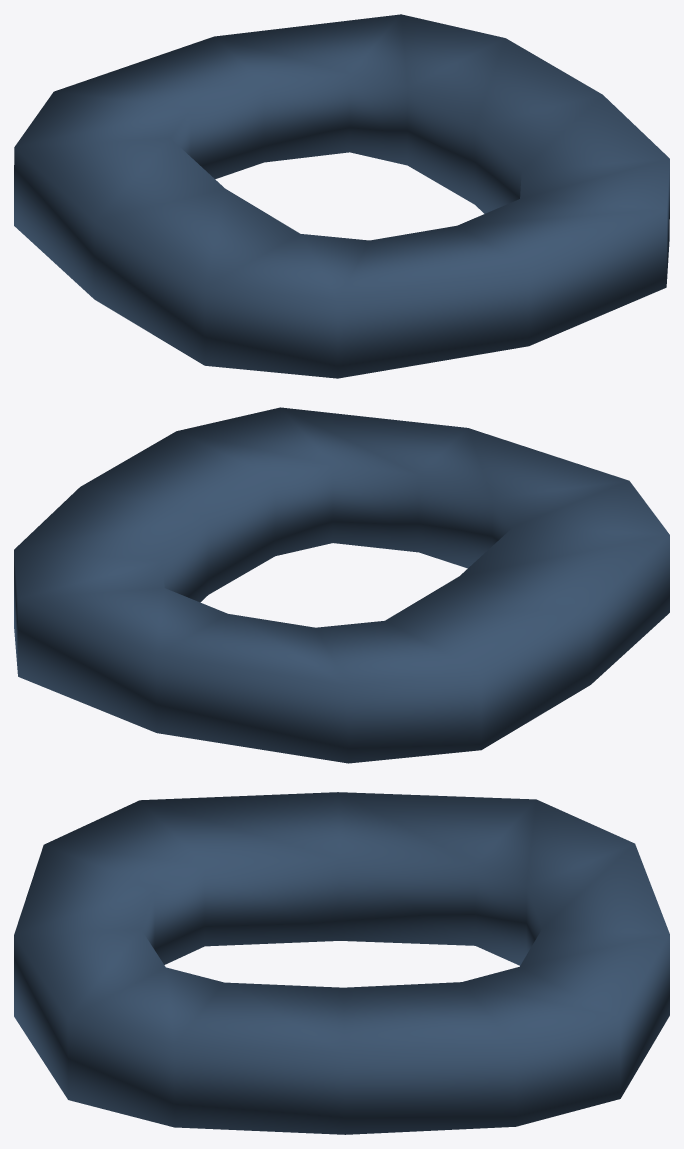
Rendered from ChainLink.fbx.
3 renders of one model, top to bottom at view 1: azimuth 30°, elevation 25°; view 2: azimuth 150°, elevation 25°; view 3: azimuth 270°, elevation 25°, orthographic. The views are drawn at different scales.
Visible parts, largest first — view 1: Strapping.008; view 2: Strapping.008; view 3: Strapping.008.
Part boxes in pixels (<box>): Strapping.008: <box>14,14,669,378</box>; Strapping.008: <box>14,407,669,763</box>; Strapping.008: <box>14,792,669,1134</box>.
Size of the model in its own units: 51.21 by 7.64 by 54.56.
